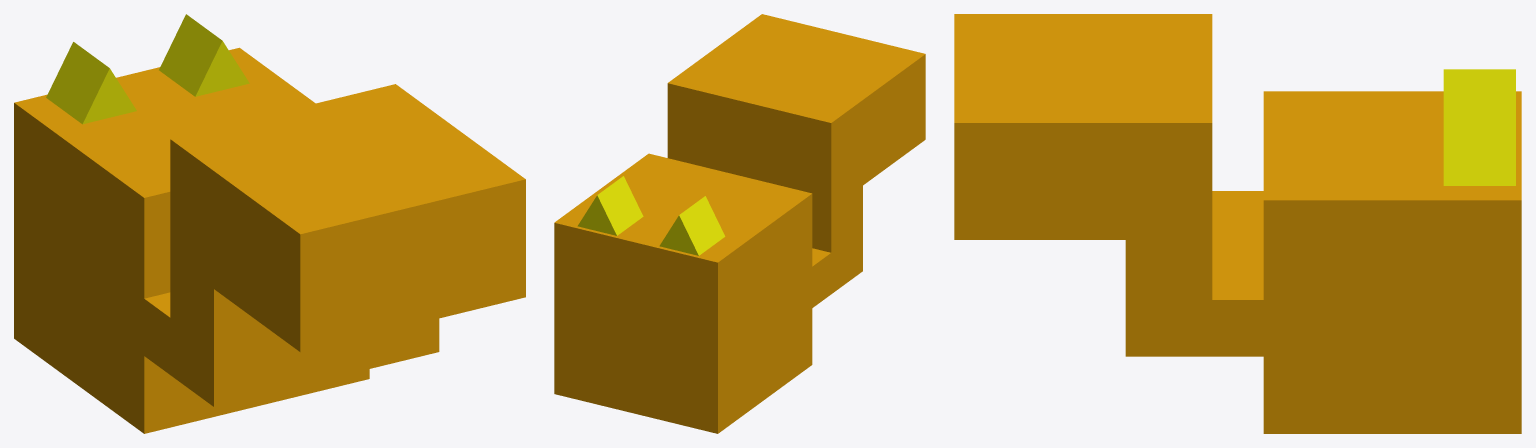
The model's file is kyara_Risu_01.fbx.
3 views of the same model, side by side, from view 1: azimuth 30°, elevation 25°; view 2: azimuth 150°, elevation 25°; view 3: azimuth 270°, elevation 25° (orthographic). The views are drawn at different scales.
Parts seen in each view (by area): view 1: polySurface7; view 2: polySurface7; view 3: polySurface7.
Boxes of the visible parts, <box> form: polySurface7: <box>14,14,525,433</box>; polySurface7: <box>554,14,925,433</box>; polySurface7: <box>954,14,1521,433</box>.
Bounding box in the file's own units: 100 × 133 × 220.
